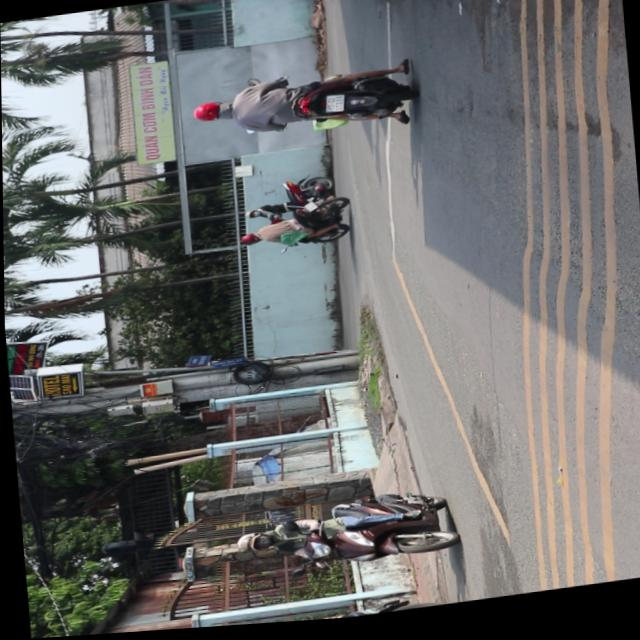helmet: (190, 102, 229, 128), (233, 533, 272, 558)
licenseplate: (228, 486, 459, 586), (187, 63, 418, 153)
nohelmet: (322, 97, 345, 117)
